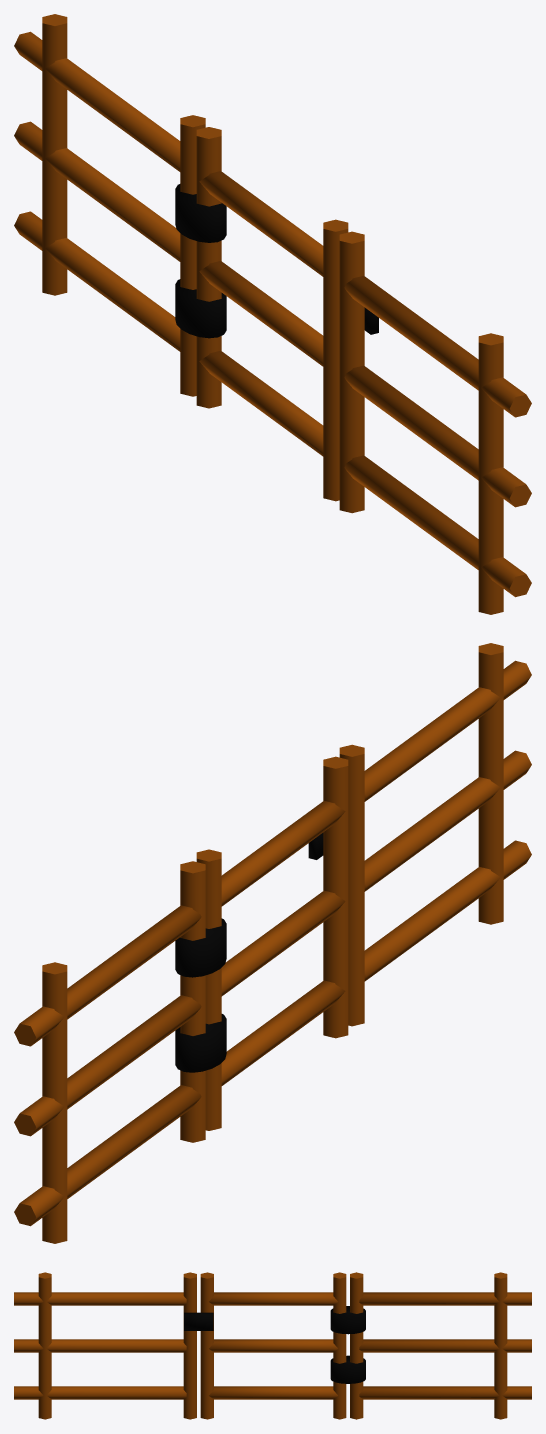
Rendered from gate.obj.
The picture shows the model from 3 angles, top to bottom: view 1: azimuth 30°, elevation 25°; view 2: azimuth 150°, elevation 25°; view 3: azimuth 270°, elevation 25°; orthographic projection. The views are drawn at different scales.
Parts seen in each view (by area): view 1: cylinder1, cylinder1_copy2, cylinder1_copy3, cylinder4_cut9, cylinder4_cut8, cylinder4_cut7, cylinder1_copy10, cylinder4_cut15, cylinder4_cut14, cylinder4_cut13, cylinder1_copy17, cylinder4 (+5 smaller); view 2: cylinder1_copy10, cylinder1_copy3, cylinder1_copy2, cylinder4_cut14, cylinder4_cut13, cylinder4_cut15, cylinder1, cylinder4_cut9, cylinder4_cut8, cylinder4_cut7, cylinder1_copy16, cylinder4_copy6 (+5 smaller); view 3: cylinder4_cut9, cylinder4_cut8, cylinder4_cut7, cylinder4_cut15, cylinder4_cut14, cylinder4_cut13, cylinder1_copy3, cylinder1_copy2, cylinder1, cylinder1_copy10, cylinder4_copy6, cylinder4_copy5 (+6 smaller).
Part boxes in pixels (<box>): cylinder1: <box>339,231,364,513</box>; cylinder1_copy2: <box>478,333,503,614</box>; cylinder1_copy3: <box>42,14,67,295</box>; cylinder4_cut9: <box>344,275,531,417</box>; cylinder4_cut8: <box>344,365,531,507</box>; cylinder4_cut7: <box>344,455,531,597</box>; cylinder1_copy10: <box>323,219,348,501</box>; cylinder4_cut15: <box>14,31,180,171</box>; cylinder4_cut14: <box>14,121,180,261</box>; cylinder4_cut13: <box>14,211,180,351</box>; cylinder1_copy17: <box>196,127,221,408</box>; cylinder4: <box>199,350,323,456</box>; cylinder1_copy10: <box>323,756,348,1038</box>; cylinder1_copy3: <box>42,962,67,1243</box>; cylinder1_copy2: <box>478,643,503,924</box>; cylinder4_cut14: <box>14,995,201,1136</box>; cylinder4_cut13: <box>14,1085,201,1226</box>; cylinder4_cut15: <box>14,905,201,1046</box>; cylinder1: <box>339,744,364,1026</box>; cylinder4_cut9: <box>364,660,531,801</box>; cylinder4_cut8: <box>364,750,531,891</box>; cylinder4_cut7: <box>364,840,531,981</box>; cylinder1_copy16: <box>180,861,205,1142</box>; cylinder4_copy6: <box>221,801,345,906</box>; cylinder4_cut9: <box>14,1292,186,1305</box>; cylinder4_cut8: <box>14,1339,186,1352</box>; cylinder4_cut7: <box>14,1386,186,1399</box>; cylinder4_cut15: <box>359,1292,531,1305</box>; cylinder4_cut14: <box>359,1339,531,1352</box>; cylinder4_cut13: <box>359,1386,531,1399</box>; cylinder1_copy3: <box>494,1272,507,1419</box>; cylinder1_copy2: <box>38,1272,51,1419</box>; cylinder1: <box>183,1272,196,1419</box>; cylinder1_copy10: <box>200,1272,213,1419</box>; cylinder4_copy6: <box>209,1292,337,1305</box>; cylinder4_copy5: <box>209,1339,337,1352</box>.
Size of the model in its own units: 0.9418 by 6 by 20.
